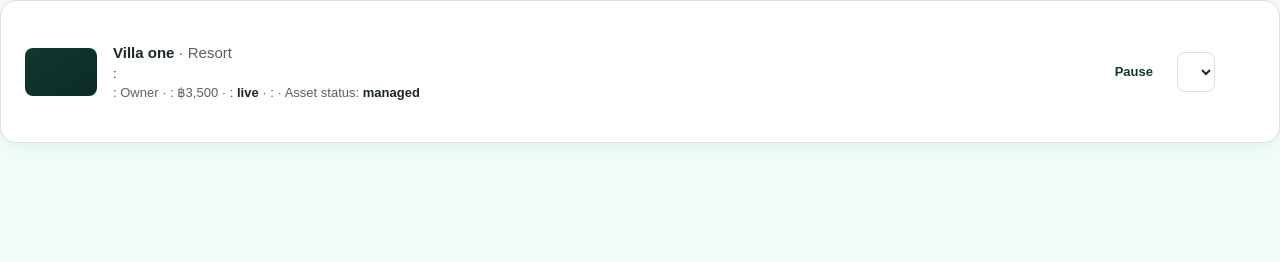
Test: publication action feedback › reports pause separately and clears the previous success if the next request fails
The image size is (1280, 262).
Click the button "Pause". click: click(1134, 72)
box: [1099, 52, 1169, 92]
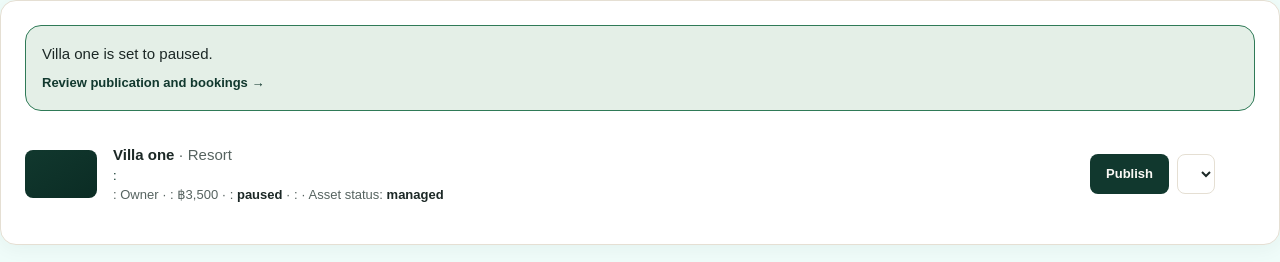
Now the message shows "Villa one is set to paused.", box [42, 45, 213, 62]
Click the button "Publish". click: click(1130, 174)
box: [1090, 154, 1169, 194]
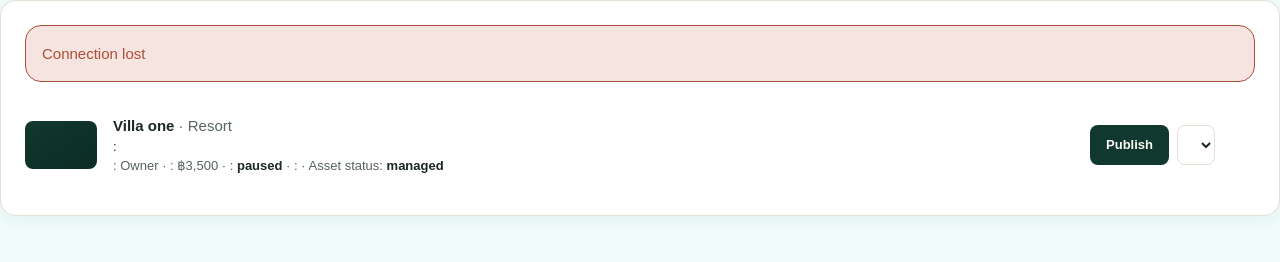
Expected: the button "Publish" is enabled, [1090, 124, 1169, 164]
Now the message reads "Connection lost", box [42, 45, 145, 62]
